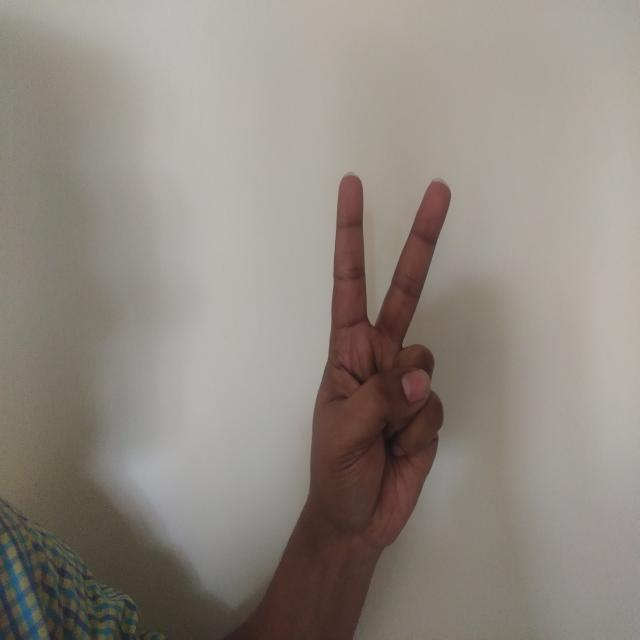No: (289, 144, 467, 578)
